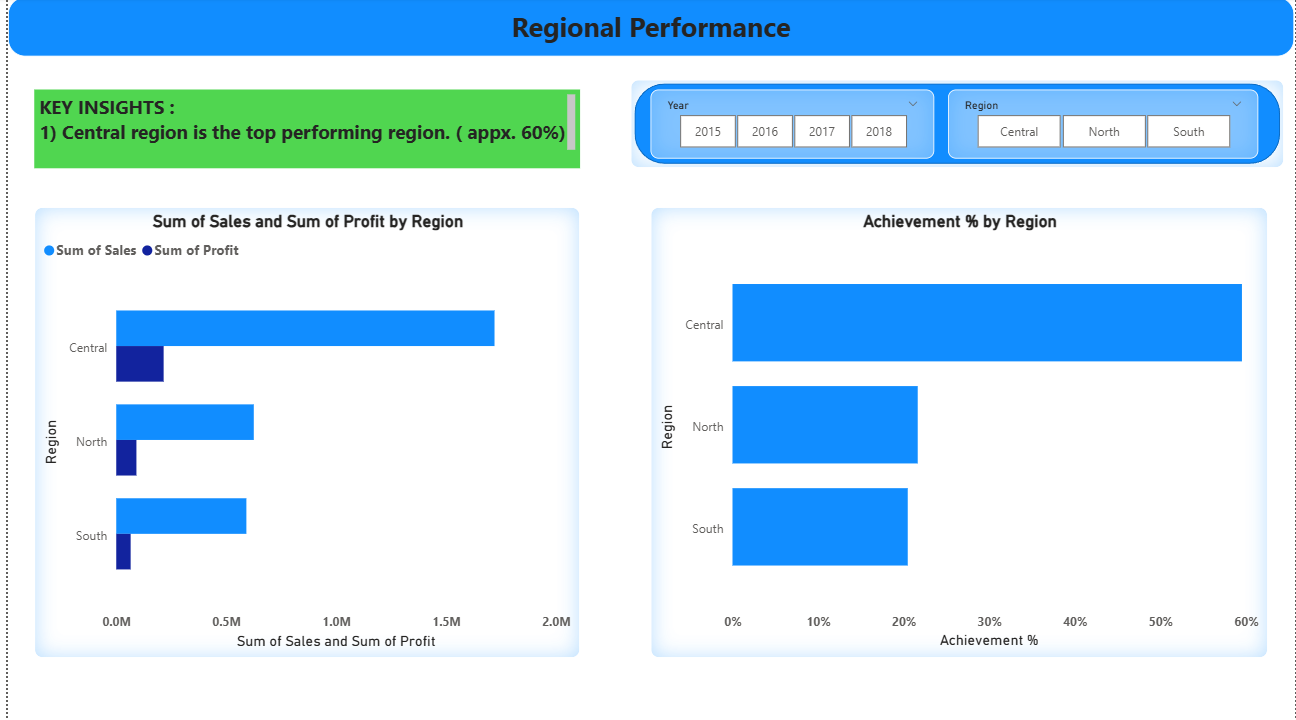

The page's visual inventory and layout, read from the dashboard file:
{"tool":"powerbi","page":{"name":"Page 2","canvas":[1280,720],"ordinal":1},"visuals":[{"type":"textbox","box":[0,0,1280.3,59],"z":0},{"type":"clusteredBarChart","fields":{"Category":["fact_orders.Region"],"Y":["Sum(fact_orders.Sales)","Sum(fact_orders.Profit)"]},"box":[26.1,208.6,543.4,448.7],"z":1000},{"type":"clusteredBarChart","fields":{"Category":["fact_orders.Region"],"Y":["_Measures.Achievement %"]},"box":[639.5,208.6,614.8,448.7],"z":2000},{"type":"shape","box":[618.9,82.3,650.4,87.8],"z":3000},{"type":"slicer","fields":{"Values":["fact_orders.Year"]},"box":[639.5,91.9,282.7,68.6],"z":4000},{"type":"slicer","fields":{"Values":["fact_orders.Region"]},"box":[935.9,91.9,308.7,68.6],"z":5000},{"type":"textbox","box":[26.1,91.9,543.4,78.2],"z":6000}]}

Visuals, with their boxes in screenshot pixels (x1, y1, x2, y2), scaled from the page's 1280x720 canvas onto the 1296x720 screenshot:
textbox: crop(0, 0, 1295, 59)
clusteredBarChart - fact_orders.Region x Sum(fact_orders.Sales): crop(26, 209, 577, 657)
clusteredBarChart - fact_orders.Region x _Measures.Achievement %: crop(647, 209, 1270, 657)
shape: crop(627, 82, 1285, 170)
slicer - fact_orders.Year: crop(647, 92, 934, 160)
slicer - fact_orders.Region: crop(948, 92, 1260, 160)
textbox: crop(26, 92, 577, 170)
